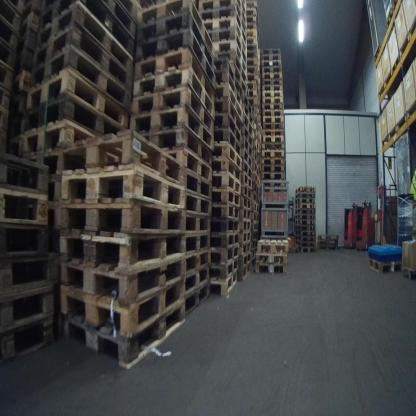pallet: (60, 296, 183, 375), (58, 124, 187, 181), (35, 2, 133, 75), (62, 228, 189, 277), (35, 29, 133, 91), (33, 45, 127, 109), (58, 261, 188, 306), (31, 69, 128, 127), (59, 195, 187, 237), (136, 12, 215, 72), (59, 170, 184, 207), (24, 92, 121, 137), (137, 3, 215, 58), (135, 33, 216, 84), (136, 50, 215, 102), (136, 66, 215, 118), (35, 2, 135, 43), (135, 86, 215, 134), (128, 109, 215, 149), (1, 314, 55, 367), (141, 127, 213, 166), (0, 284, 54, 333), (0, 254, 52, 299), (1, 150, 49, 196), (1, 189, 57, 228), (1, 225, 49, 258), (19, 122, 88, 143), (173, 150, 213, 185), (216, 40, 247, 76), (215, 18, 247, 52), (216, 28, 247, 63), (216, 5, 247, 40), (184, 247, 213, 284), (215, 67, 242, 106), (179, 170, 214, 200), (184, 264, 210, 303), (215, 96, 242, 131), (215, 84, 242, 119), (186, 280, 210, 318), (367, 254, 401, 279), (213, 115, 243, 143), (209, 272, 238, 299), (212, 143, 241, 170), (213, 130, 242, 157), (185, 229, 211, 258), (211, 156, 241, 181), (216, 60, 240, 91), (212, 172, 241, 197), (186, 191, 213, 217), (211, 258, 239, 283), (206, 219, 240, 239), (215, 4, 247, 25), (210, 246, 240, 268), (256, 239, 292, 256), (210, 186, 242, 205), (185, 210, 210, 232), (210, 234, 240, 252), (0, 1, 22, 24), (210, 205, 241, 221), (244, 2, 260, 33), (253, 264, 290, 277), (0, 20, 16, 46), (256, 253, 288, 264), (247, 6, 259, 35), (3, 62, 15, 90), (397, 264, 414, 283), (237, 264, 251, 285), (260, 173, 286, 184), (261, 156, 286, 167), (294, 185, 315, 198), (0, 42, 11, 65), (242, 105, 254, 126), (243, 116, 253, 141), (246, 17, 259, 36), (242, 93, 252, 116), (261, 149, 285, 158), (263, 130, 287, 139), (262, 90, 285, 99), (294, 197, 317, 206), (240, 229, 252, 246), (242, 128, 252, 148), (261, 166, 286, 174), (242, 159, 253, 177), (263, 116, 285, 125), (261, 65, 283, 74), (294, 201, 316, 210), (137, 2, 165, 9), (261, 141, 285, 149), (239, 253, 250, 270), (386, 10, 394, 33), (296, 191, 316, 200), (263, 110, 285, 118), (247, 23, 258, 39), (242, 150, 252, 167), (242, 173, 252, 190), (252, 153, 260, 174), (243, 140, 252, 158), (251, 161, 260, 179), (318, 233, 338, 241), (240, 220, 252, 233), (245, 55, 258, 67), (263, 123, 285, 130), (262, 103, 284, 110), (294, 208, 316, 215), (262, 54, 281, 62), (298, 246, 317, 254), (241, 242, 251, 257), (264, 137, 285, 144), (262, 74, 283, 81), (294, 229, 315, 236), (294, 240, 315, 247), (374, 46, 382, 64), (240, 207, 251, 220), (250, 193, 261, 206), (248, 37, 259, 50), (263, 98, 283, 105), (295, 213, 315, 220), (295, 234, 315, 241), (251, 175, 260, 190), (263, 61, 282, 68), (241, 185, 251, 198), (249, 202, 259, 215), (247, 43, 257, 56), (243, 196, 251, 211), (264, 86, 284, 92), (261, 49, 281, 55), (317, 245, 337, 251), (295, 220, 315, 226), (295, 226, 315, 232), (250, 184, 259, 197), (262, 80, 284, 85), (246, 51, 259, 59), (251, 214, 261, 224), (245, 89, 257, 97), (245, 67, 258, 74), (245, 74, 256, 82), (317, 241, 338, 245), (391, 1, 398, 13), (251, 224, 260, 233), (251, 239, 258, 249), (245, 83, 256, 89), (251, 233, 259, 241), (254, 144, 258, 159), (250, 250, 255, 262), (250, 97, 257, 102)
pallet_truck: (355, 199, 379, 256), (339, 194, 357, 252)
stillage: (260, 176, 290, 241)
